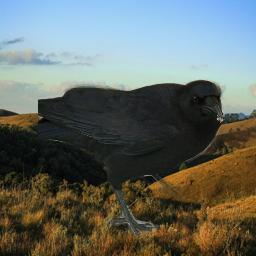Crow: (38, 79, 225, 236)
